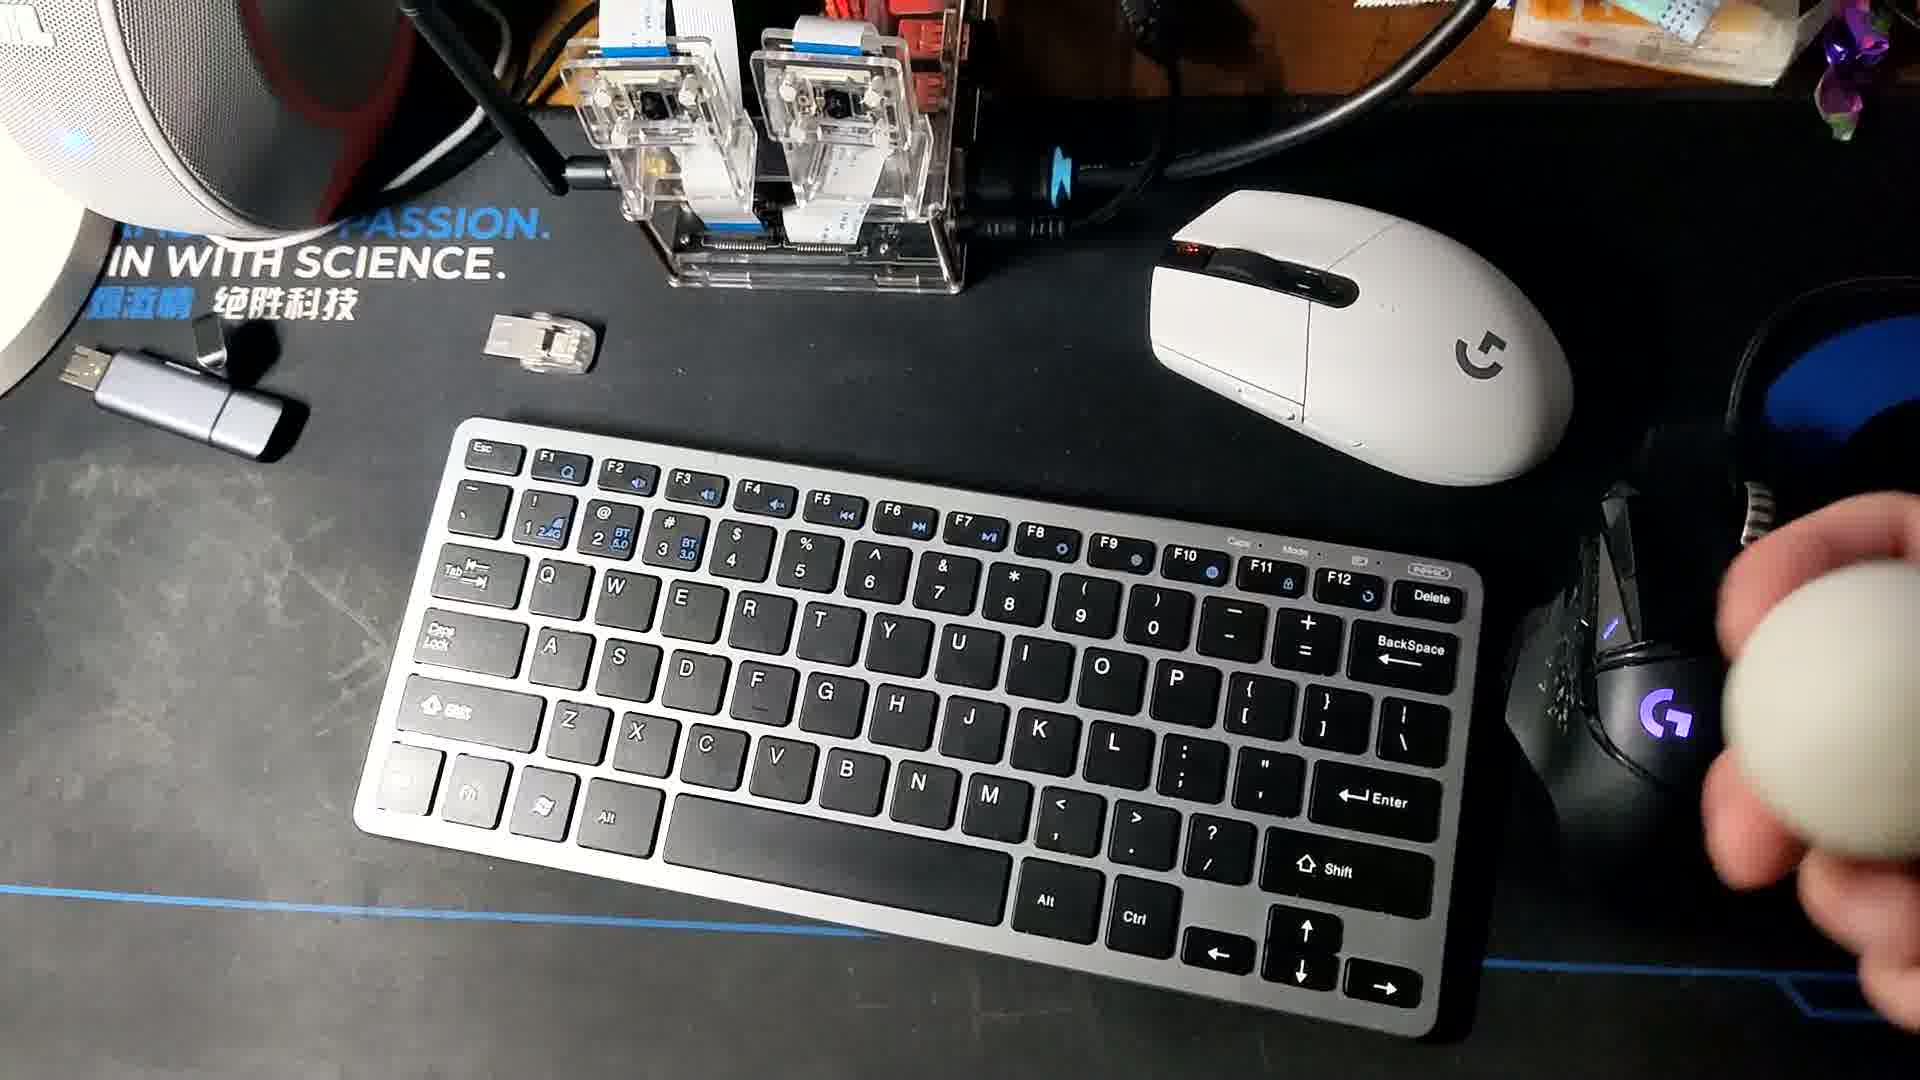Ball: (1730, 574, 1920, 868)
